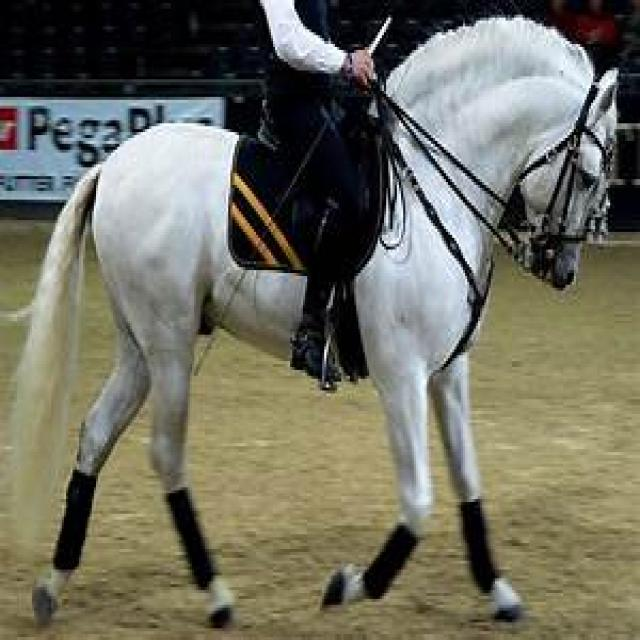horse: (17, 0, 617, 631)
